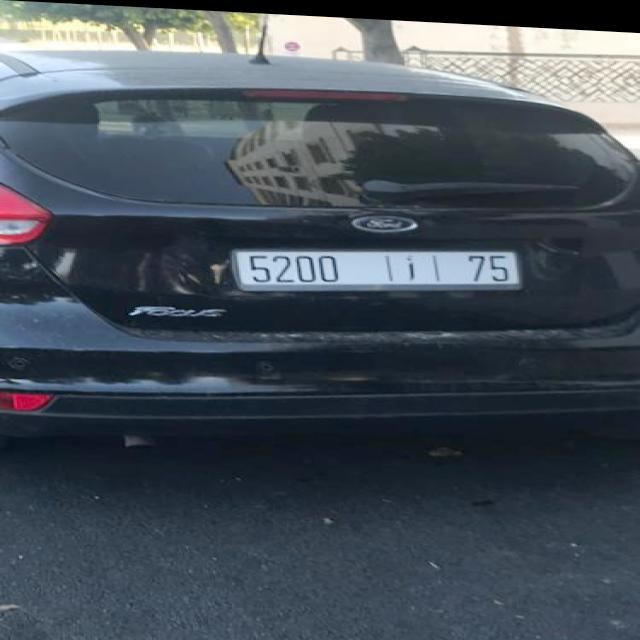License-Plate: (233, 246, 520, 288)
